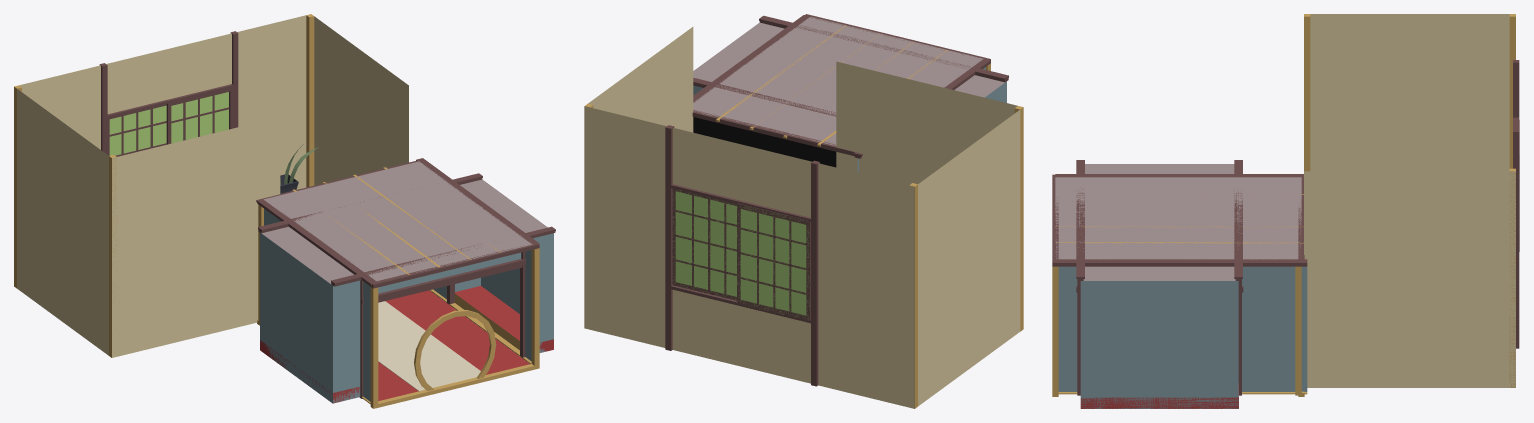
The model's file is BossRoom.fbx.
3 views of the same model, side by side, from view 1: azimuth 30°, elevation 25°; view 2: azimuth 150°, elevation 25°; view 3: azimuth 270°, elevation 25° (orthographic). The views are drawn at different scales.
Visible parts, largest first — view 1: DarkRoom_GEO, CenterCeiling_GEO, Supports_GEO, R_Wall03_GEO, Floor_GEO, FloorCarpet_GEO, R_Wall04_GEO, L_Step_GEO, L_Ceiling_GEO, L_Wall04_GEO, R_Ceiling_GEO, SouthWall_GEO (+5 smaller); view 2: DarkRoom_GEO, CenterCeiling_GEO, Supports_GEO, NorthWall_GEO, R_Ceiling_GEO, L_Ceiling_GEO; view 3: DarkRoom_GEO, L_Wall03_GEO, CenterCeiling_GEO, Supports_GEO, L_Wall01_GEO, L_Wall05_GEO, R_Ceiling_GEO, L_Step_GEO, L_Ceiling_GEO.
Part boxes in pixels (x1=…): DarkRoom_GEO: x1=14, y1=14, x2=408, y2=357; CenterCeiling_GEO: x1=263, y1=161, x2=532, y2=281; Supports_GEO: x1=256, y1=158, x2=555, y2=408; R_Wall03_GEO: x1=260, y1=232, x2=332, y2=403; Floor_GEO: x1=378, y1=290, x2=529, y2=400; FloorCarpet_GEO: x1=378, y1=301, x2=480, y2=391; R_Wall04_GEO: x1=333, y1=280, x2=360, y2=403; L_Step_GEO: x1=455, y1=286, x2=553, y2=351; L_Ceiling_GEO: x1=262, y1=226, x2=353, y2=283; L_Wall04_GEO: x1=533, y1=233, x2=553, y2=352; R_Ceiling_GEO: x1=460, y1=179, x2=547, y2=232; SouthWall_GEO: x1=414, y1=310, x2=496, y2=391; DarkRoom_GEO: x1=584, y1=27, x2=1023, y2=408; CenterCeiling_GEO: x1=693, y1=17, x2=983, y2=146; Supports_GEO: x1=692, y1=14, x2=1008, y2=158; NorthWall_GEO: x1=693, y1=117, x2=836, y2=167; R_Ceiling_GEO: x1=693, y1=22, x2=784, y2=81; L_Ceiling_GEO: x1=954, y1=75, x2=1004, y2=97; DarkRoom_GEO: x1=1304, y1=14, x2=1519, y2=387; L_Wall03_GEO: x1=1080, y1=281, x2=1238, y2=408; CenterCeiling_GEO: x1=1055, y1=177, x2=1303, y2=259; Supports_GEO: x1=1052, y1=160, x2=1307, y2=396; L_Wall01_GEO: x1=1242, y1=266, x2=1307, y2=391; L_Wall05_GEO: x1=1058, y1=266, x2=1077, y2=391; R_Ceiling_GEO: x1=1083, y1=266, x2=1235, y2=280; L_Step_GEO: x1=1080, y1=383, x2=1238, y2=408; L_Ceiling_GEO: x1=1085, y1=164, x2=1234, y2=173.
Size of the model in its own units: 6706 by 3823 by 7390.
